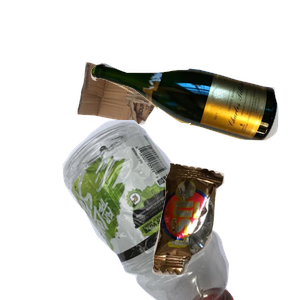cardboard: (75, 59, 237, 176)
glass: (88, 60, 300, 193)
plastic: (25, 120, 252, 300)
trash: (150, 160, 300, 300)
